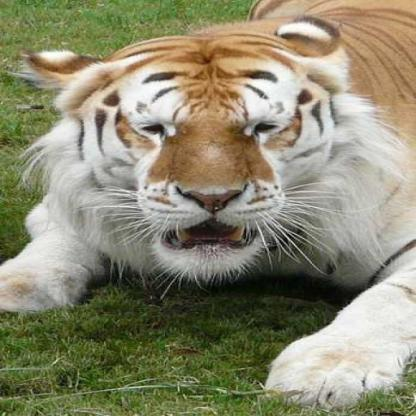Tiger: (14, 12, 415, 381)
